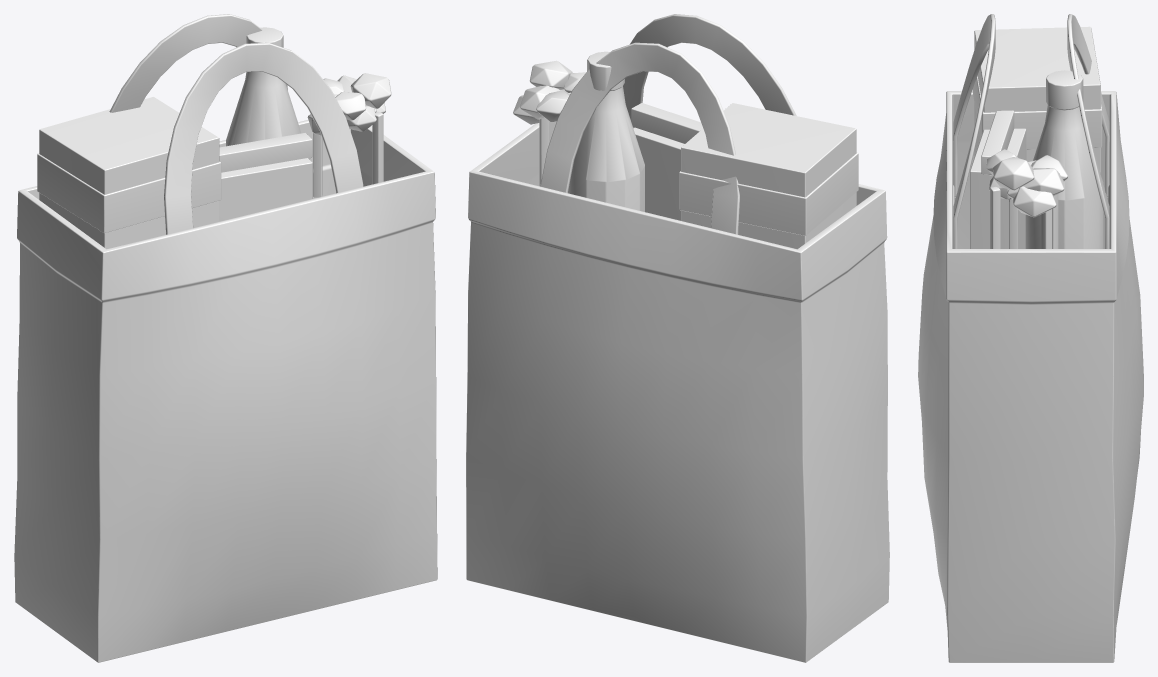
Rendered from carry_bag_full.glb.
The picture shows the model from 3 angles, left to right: view 1: azimuth 30°, elevation 25°; view 2: azimuth 150°, elevation 25°; view 3: azimuth 270°, elevation 25°; orthographic projection.
Parts seen in each view (by area): view 1: CarryBagFull; view 2: CarryBagFull; view 3: CarryBagFull.
Boxes of the visible parts, <box> form: CarryBagFull: <box>14,14,437,662</box>; CarryBagFull: <box>466,14,889,662</box>; CarryBagFull: <box>918,14,1143,662</box>.
Size of the model in its own units: 0.2703 by 0.41 by 0.15.
Materials: 1 (1 with a texture image).
